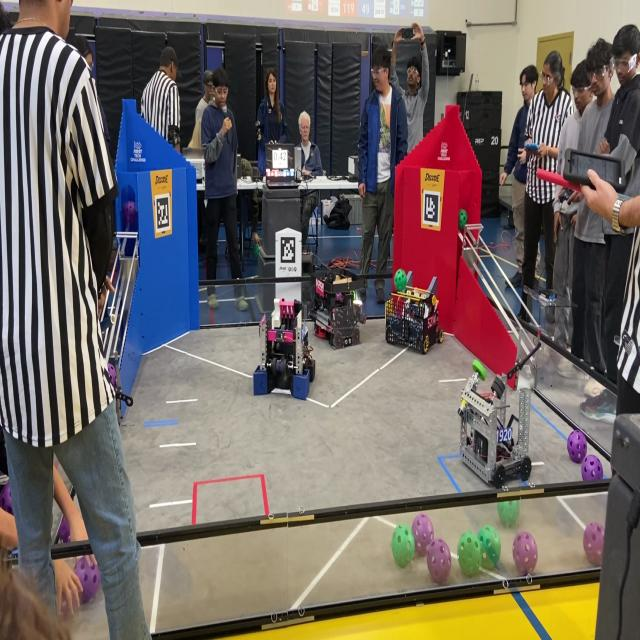artifact_green: (458, 532, 481, 576), (478, 526, 501, 568), (392, 524, 414, 567), (497, 501, 519, 526), (394, 269, 407, 292), (472, 360, 486, 381), (459, 209, 469, 231), (253, 244, 259, 256)
artifact_purple: (75, 558, 100, 603), (427, 539, 451, 584), (513, 531, 537, 575), (583, 522, 605, 566), (412, 514, 434, 557), (567, 430, 586, 463), (581, 455, 603, 481), (0, 484, 13, 515), (59, 517, 70, 543), (108, 364, 116, 388)
